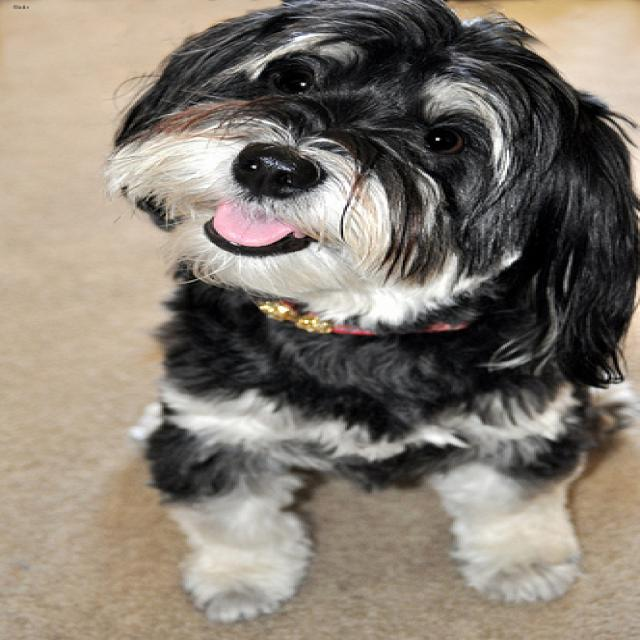dog-havanese: (89, 1, 636, 631)
